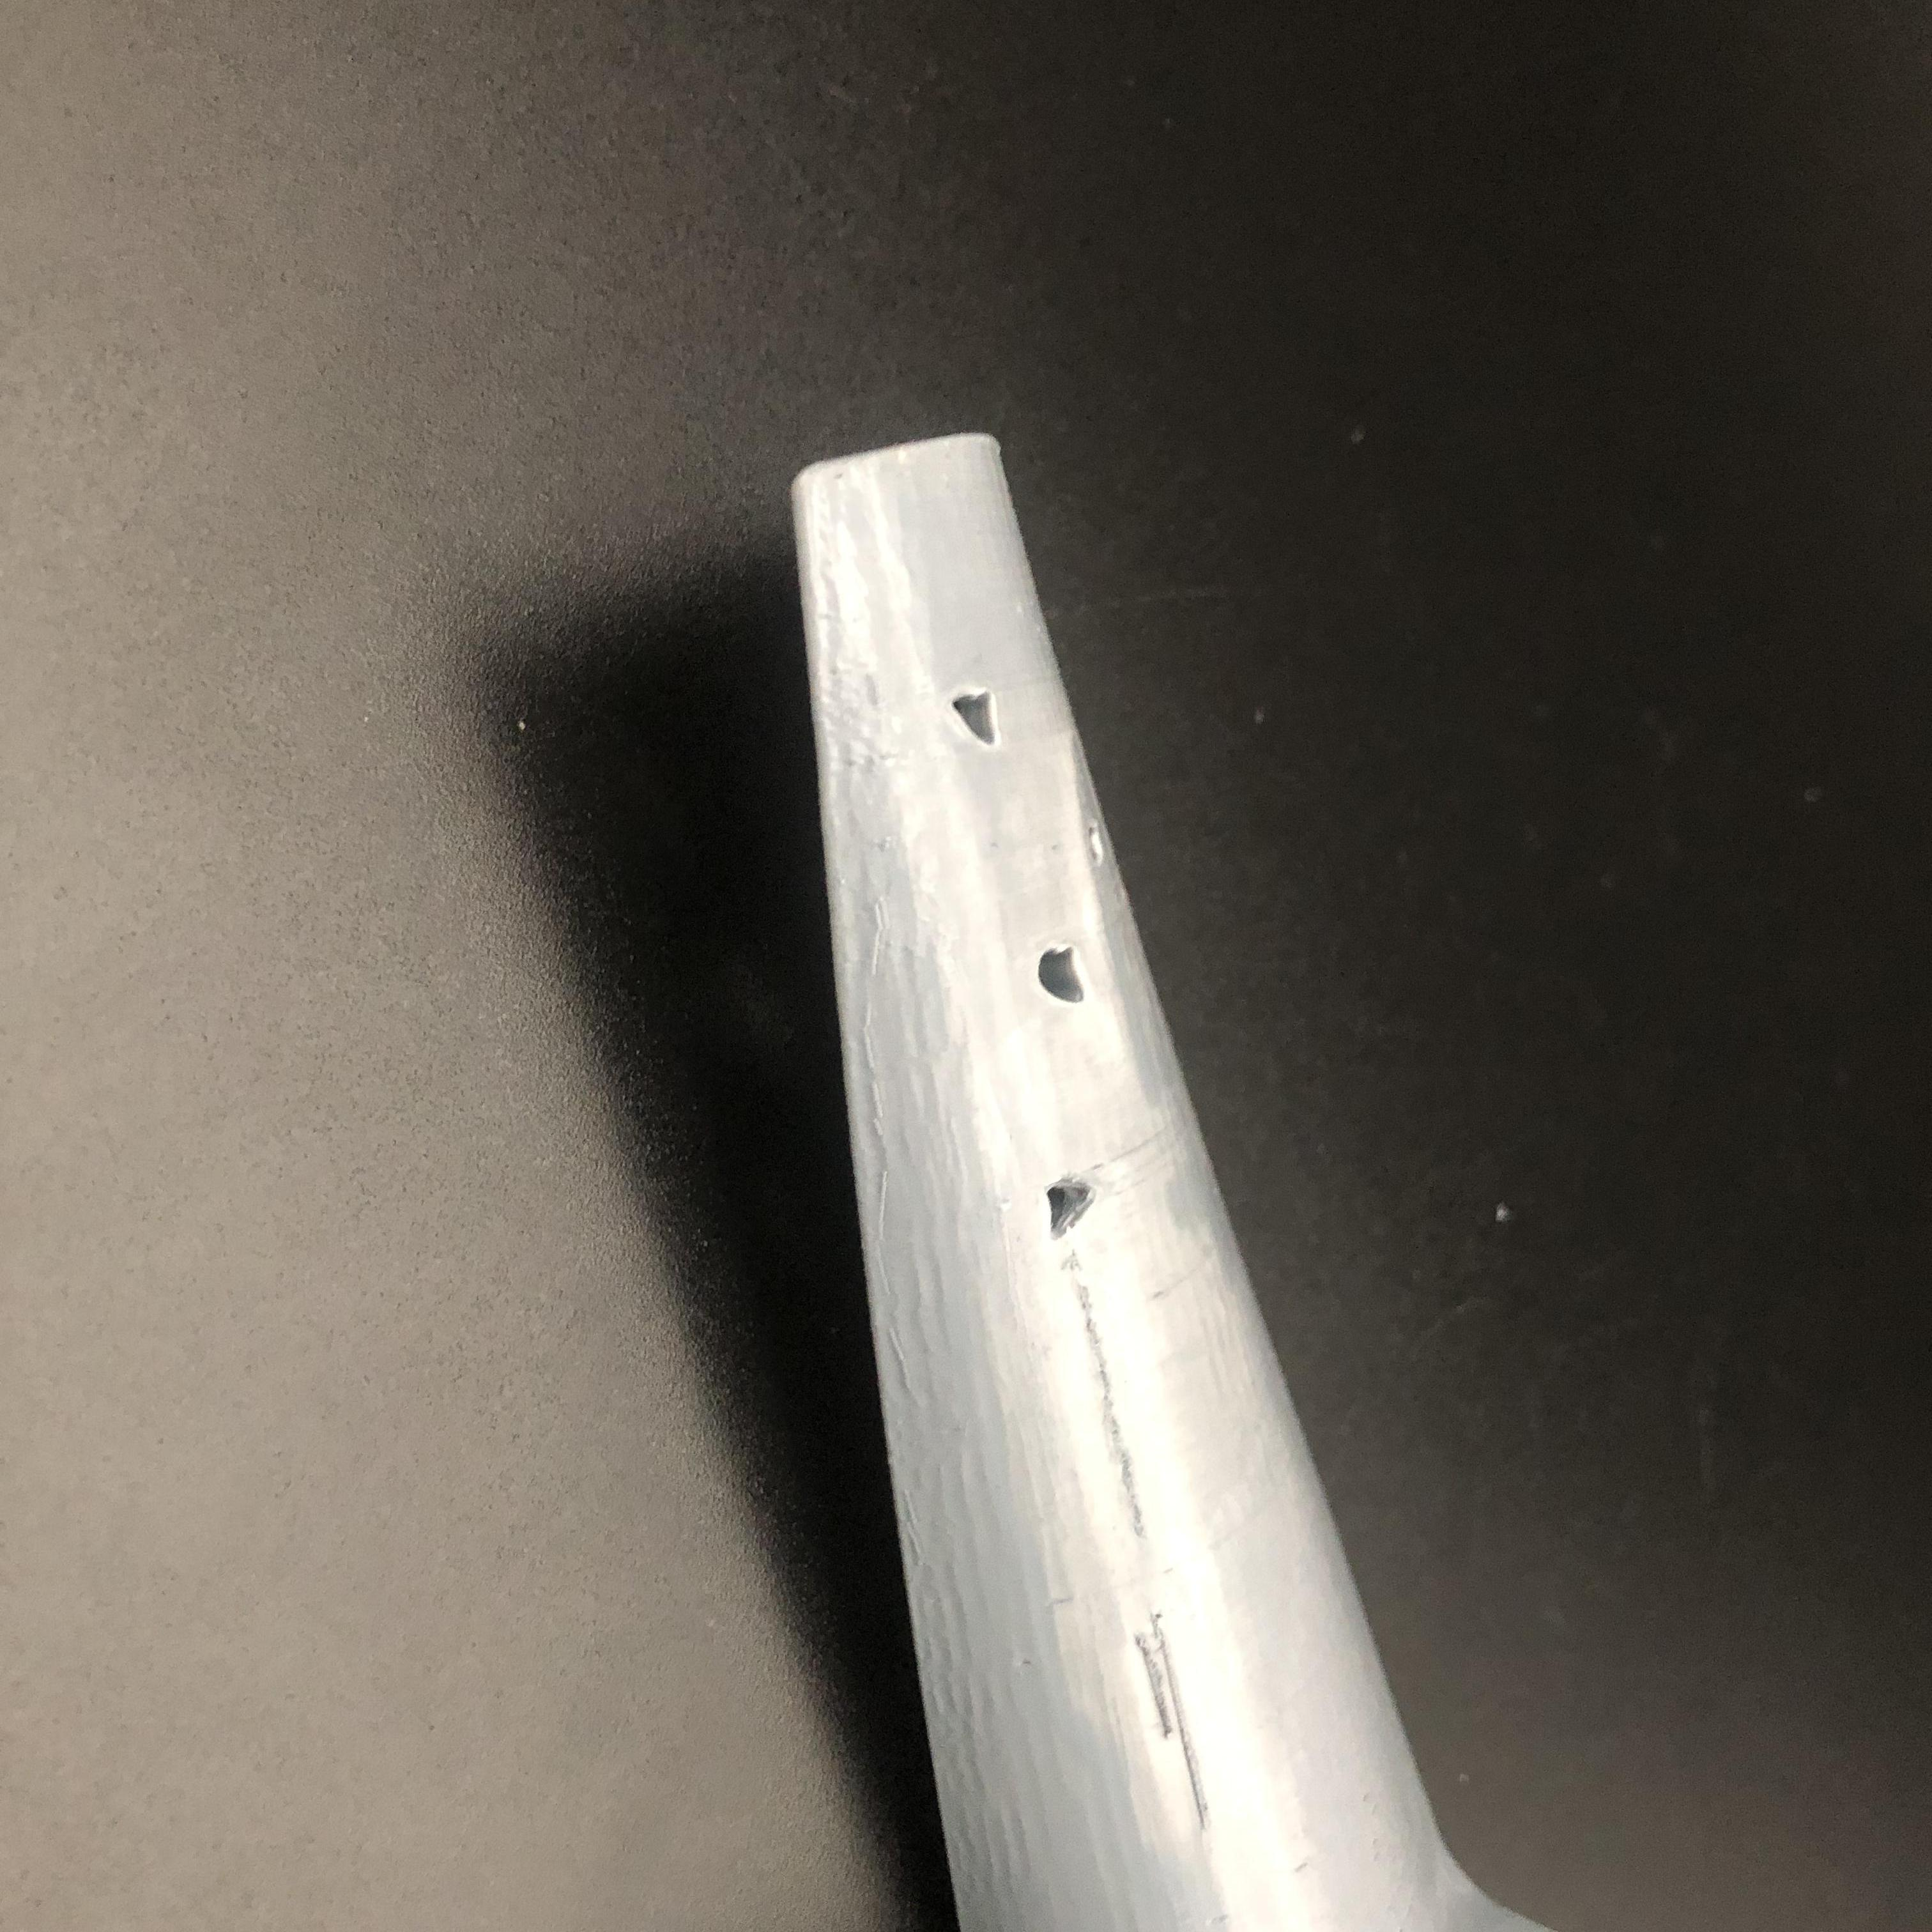breakdown: (947, 674, 1115, 1249)
